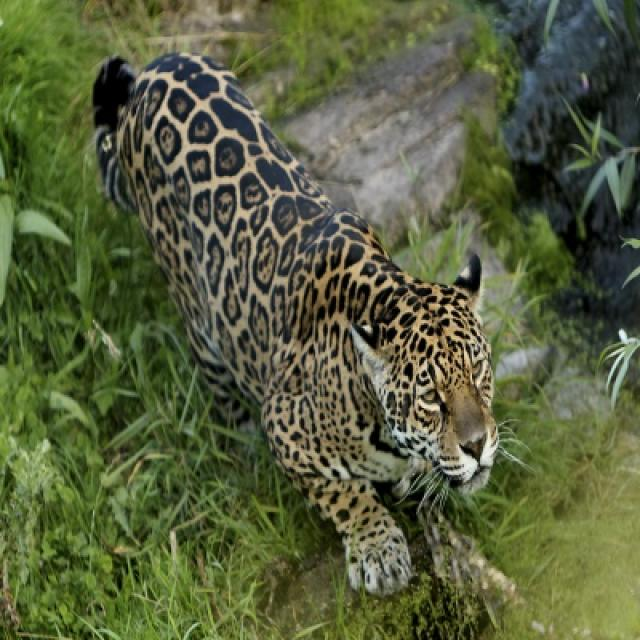Jaguar: (90, 53, 514, 606)
